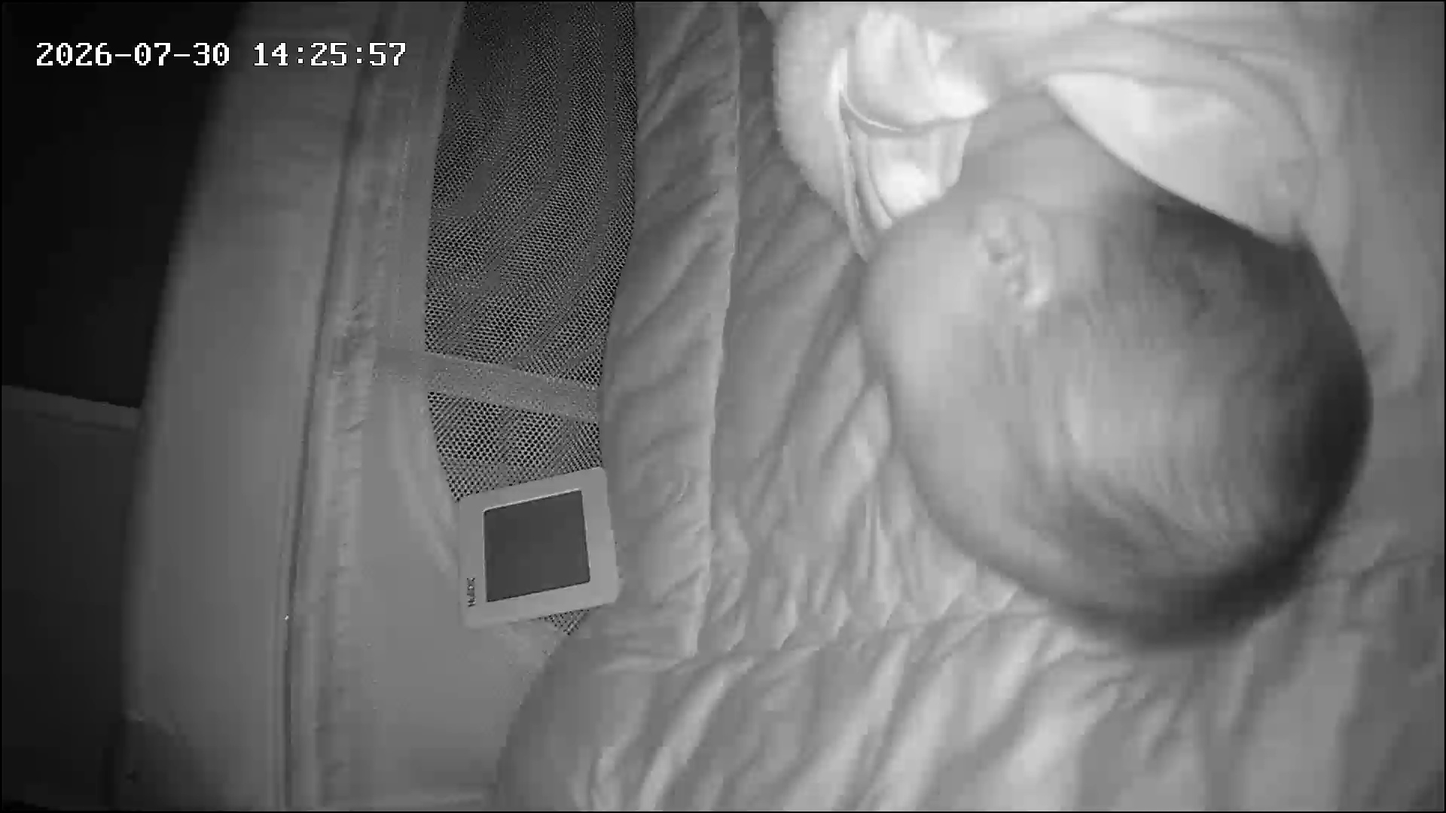baby: (594, 0, 1380, 657)
baby_face: (829, 116, 1373, 640)
